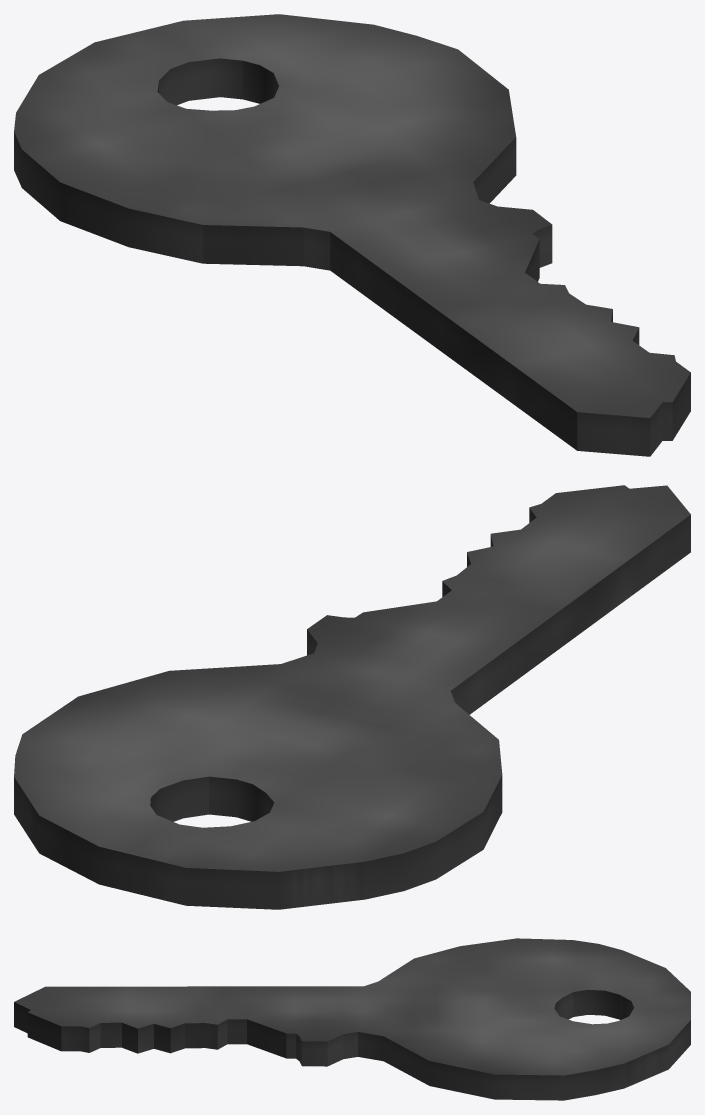
The model's file is key_mp_1_2.obj.
The picture shows the model from 3 angles, top to bottom: view 1: azimuth 30°, elevation 25°; view 2: azimuth 150°, elevation 25°; view 3: azimuth 270°, elevation 25°; orthographic projection. The views are drawn at different scales.
Visible parts, largest first — view 1: key_mp_1_2; view 2: key_mp_1_2; view 3: key_mp_1_2.
Boxes of the visible parts, x1,y1,x2,y2 form: key_mp_1_2: (14,14,690,456); key_mp_1_2: (14,485,690,909); key_mp_1_2: (14,938,690,1100).
Bounding box in the file's own units: 0.0352 × 0.00301 × 0.0735.
